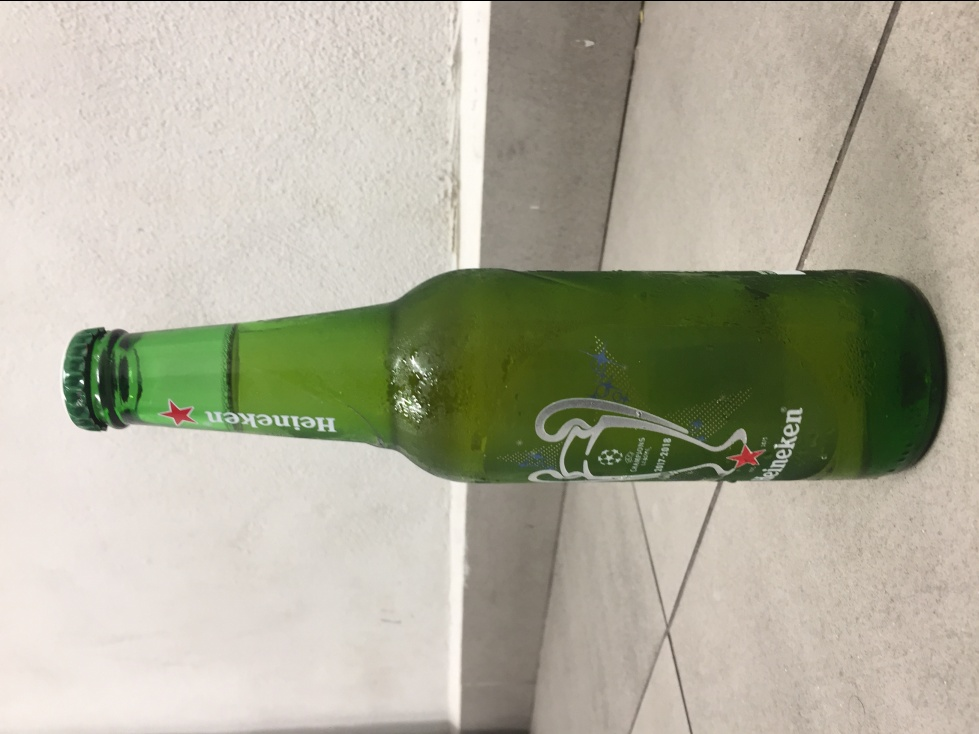heineken: (57, 267, 948, 485)
